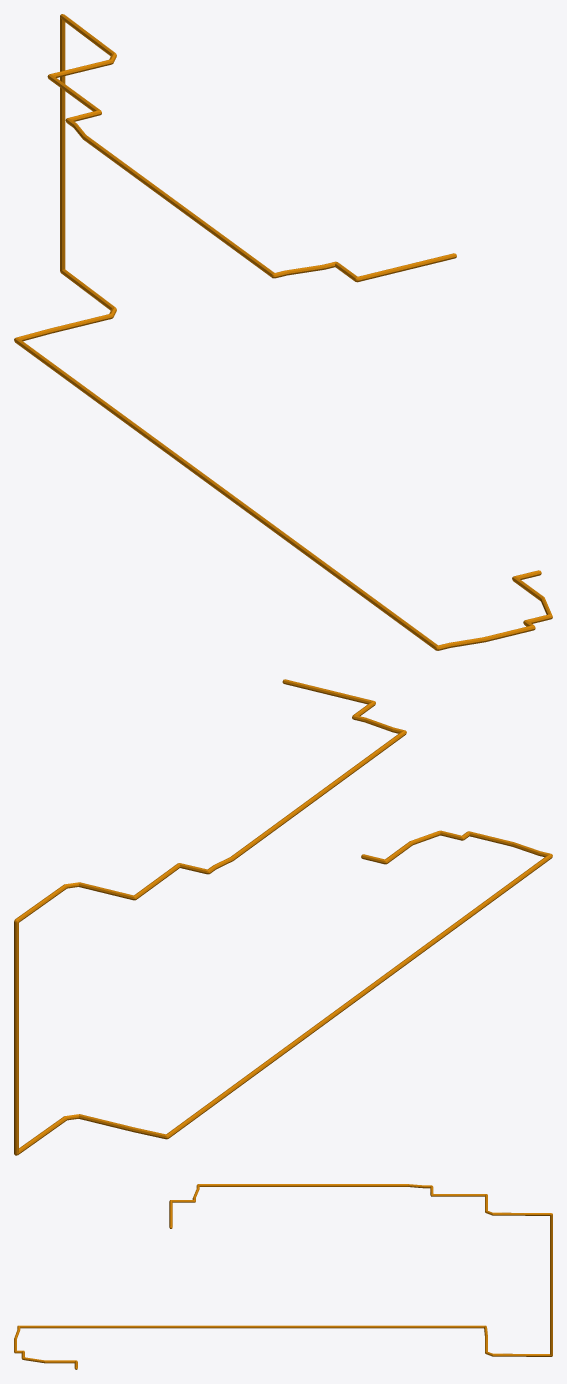
The picture shows the model from 3 angles, top to bottom: view 1: azimuth 30°, elevation 25°; view 2: azimuth 150°, elevation 25°; view 3: azimuth 270°, elevation 25°; orthographic projection. The views are drawn at different scales.
Size of the model in its own units: 660 by 1020 by 3465.
